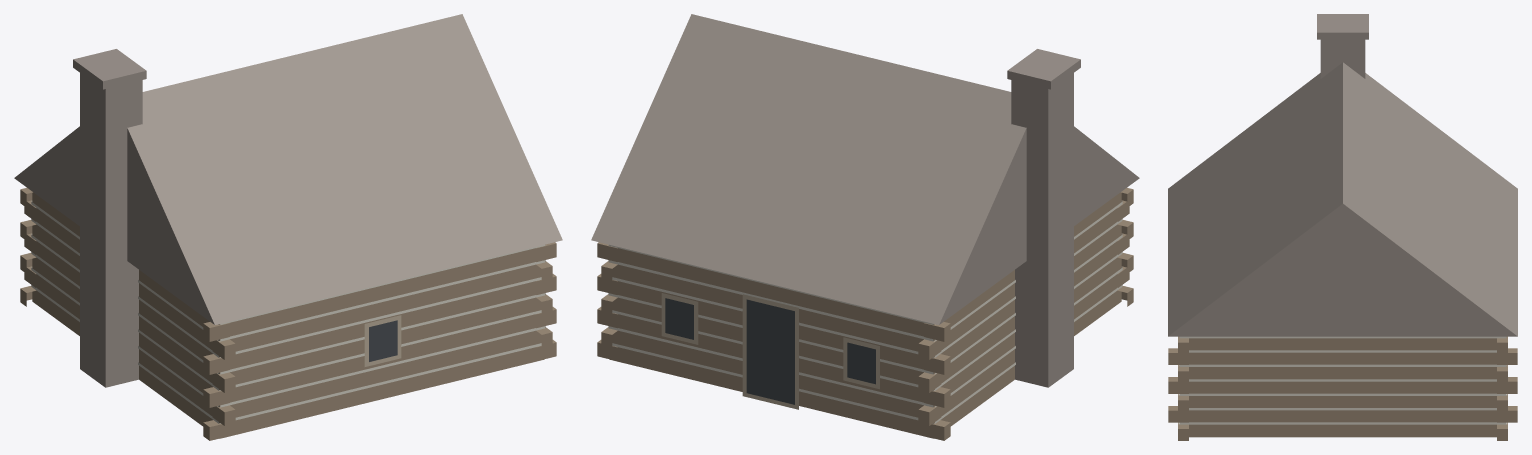
Rendered from walker_meeting_house__log_1831.glb.
3 views of the same model, side by side, from view 1: azimuth 30°, elevation 25°; view 2: azimuth 150°, elevation 25°; view 3: azimuth 270°, elevation 25° (orthographic). The views are drawn at different scales.
Parts seen in each view (by area): view 1: walker_meeting_house__log_1831; view 2: walker_meeting_house__log_1831; view 3: walker_meeting_house__log_1831.
Boxes of the visible parts, <box> form: walker_meeting_house__log_1831: <box>14,14,562,440</box>; walker_meeting_house__log_1831: <box>591,14,1139,440</box>; walker_meeting_house__log_1831: <box>1168,14,1517,440</box>.
Bounding box in the file's own units: 8.07 × 6.43 × 7.5.
Materials: 1 (1 with a texture image).
